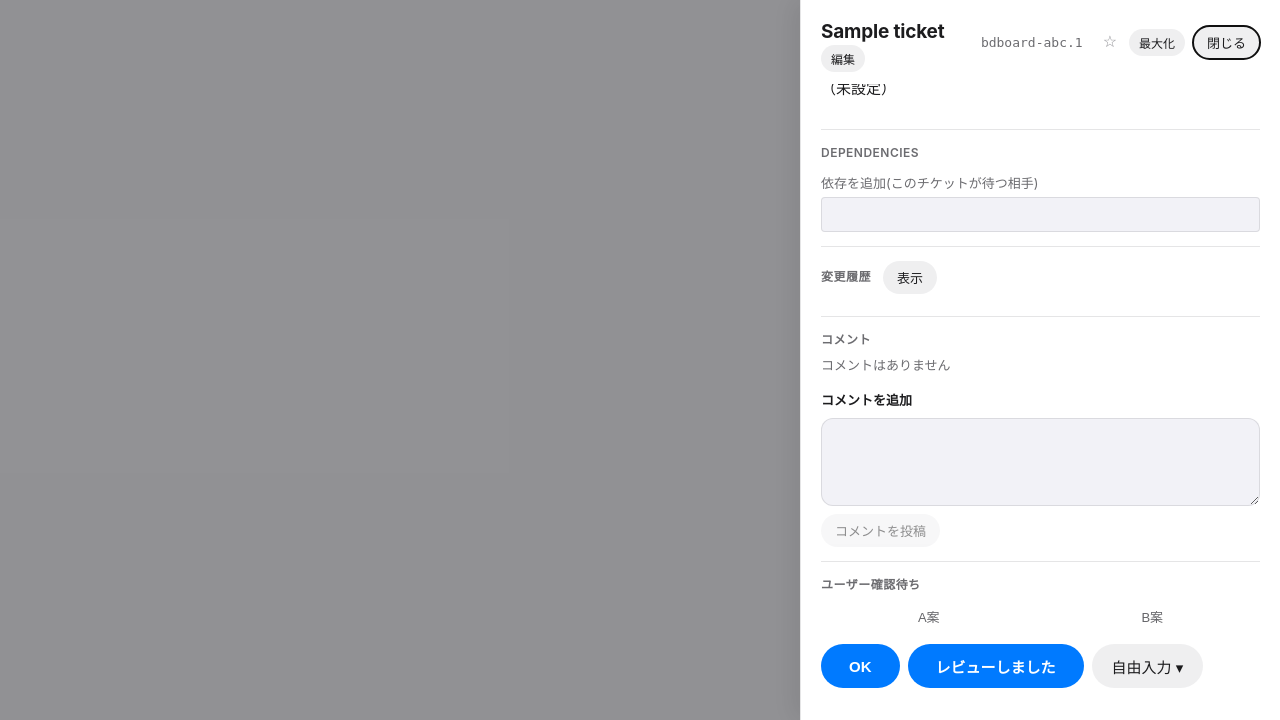
Test: TicketDetailPanel pending decisions › shows ambiguous-gate guidance instead of the generic message when the decision resolves nothing (bdboard-v78e)
(page scrolled)
What coordinates should you click on to do the following:
click the button "A案"
I would click on:
 (929, 617)
Its box is [821, 601, 1036, 632].
(page scrolled)
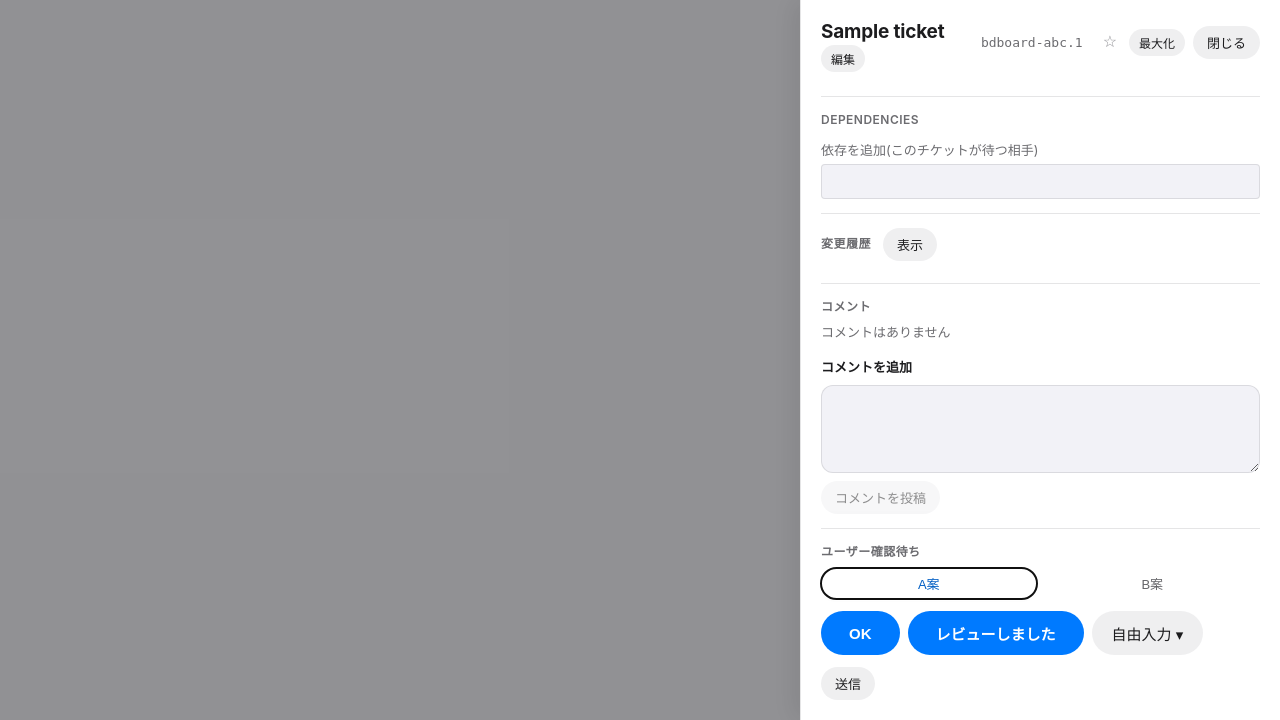
What coordinates should you click on to do the following:
click the button "送信"
I would click on:
 (848, 684)
Its box is [821, 667, 875, 700].
(page scrolled)
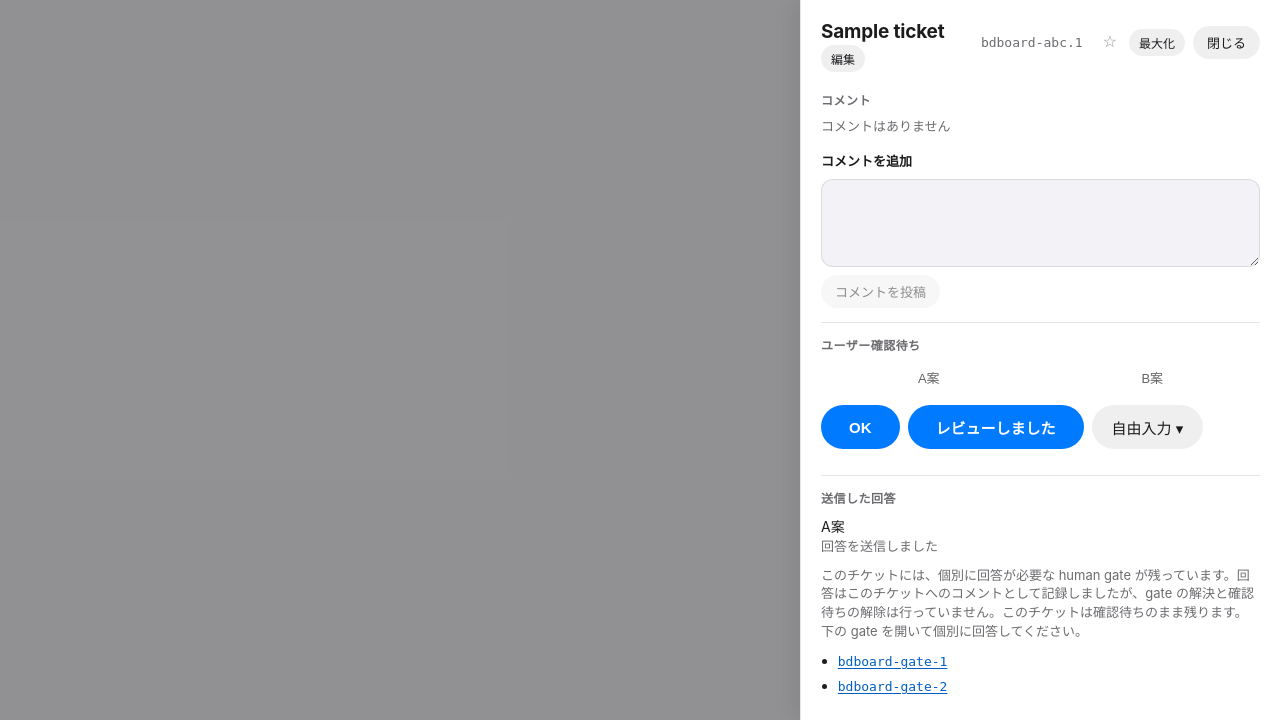
Expected: the text "このチケットには、個別に回答が必要な human gate が残っています。回答はこのチケットへのコメントとして記録しましたが、gate の解決と確認待ちの解除は行っていません。このチケットは確認待ちのまま残ります。下の gate を開いて" is shown, [821, 567, 1254, 639]
Expected: the button "bdboard-gate-1" is shown, [838, 652, 947, 671]
Expected: the button "bdboard-gate-2" is shown, [838, 676, 947, 696]
